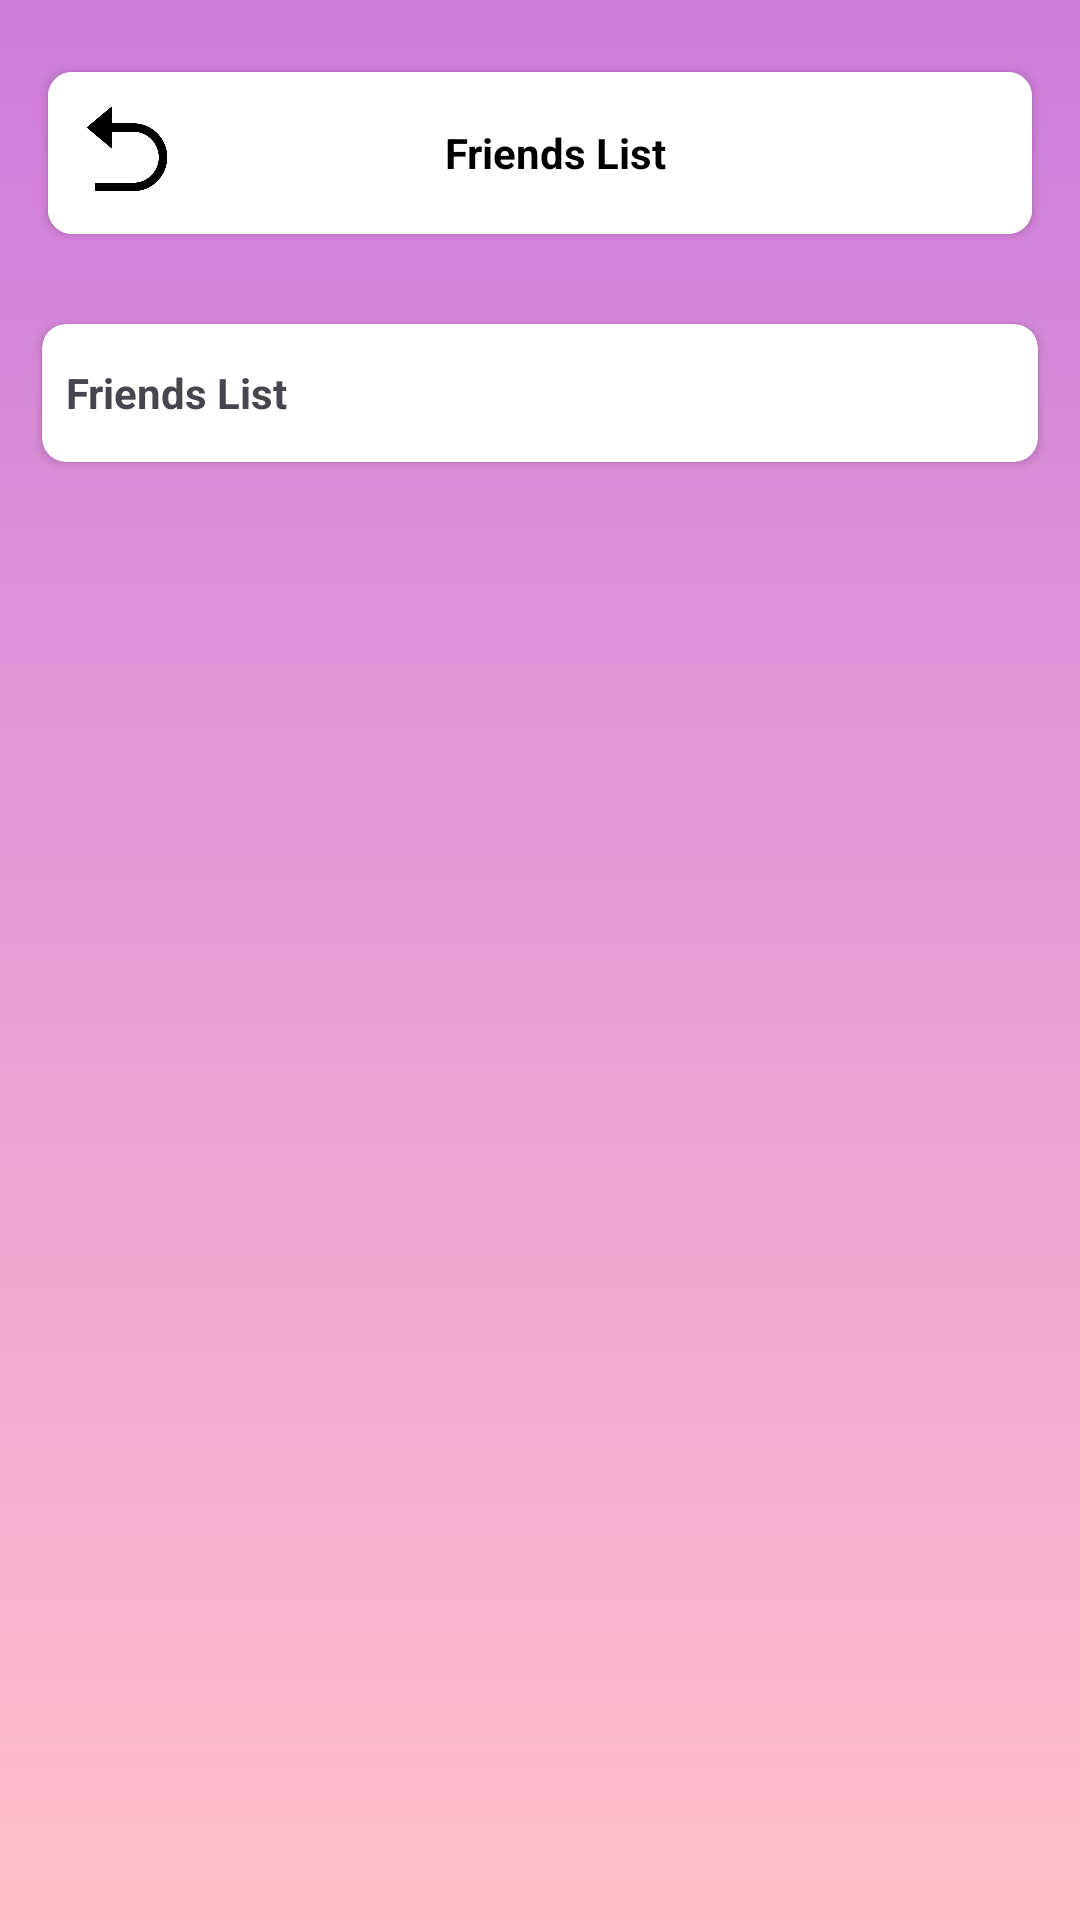

Icon click points for this 1080×1920 phone screenshot, format (x,y):
arraw back: (126,149)
